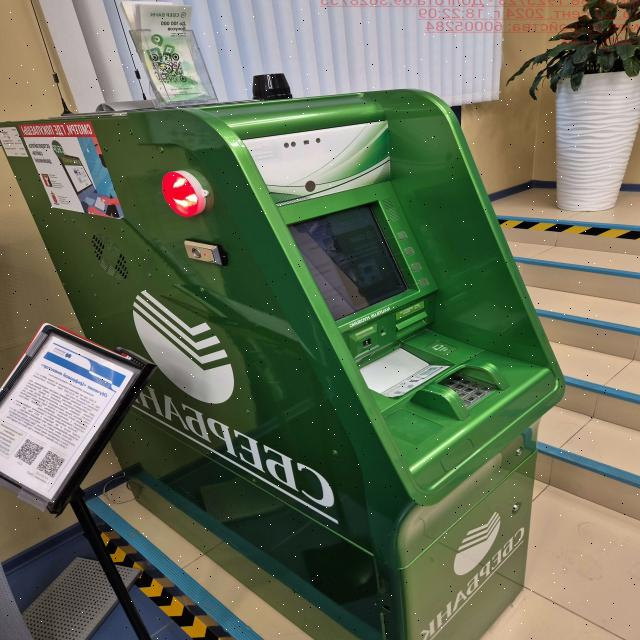bank: (0, 83, 569, 640)
